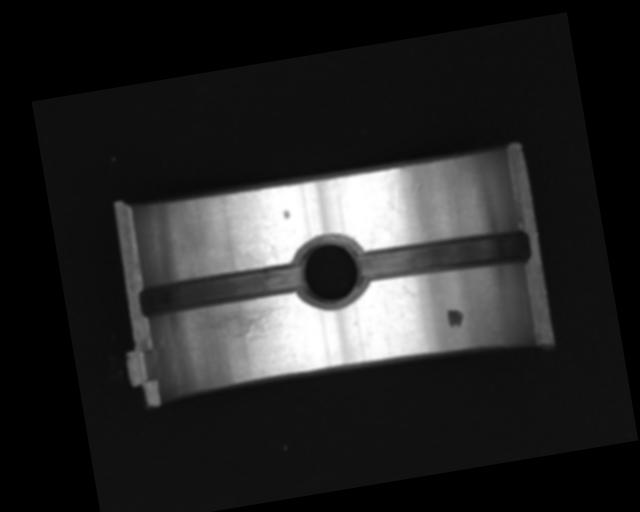blot: (445, 306, 465, 329)
bruise: (281, 208, 291, 220)
gap: (354, 225, 530, 289), (137, 260, 305, 319)
hole: (290, 231, 367, 314)
nick: (383, 189, 408, 248)
scratch: (188, 299, 295, 350)
